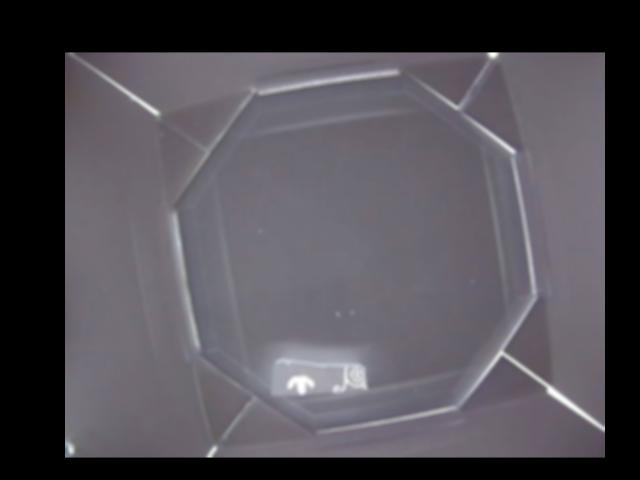China: (271, 359, 368, 395)
